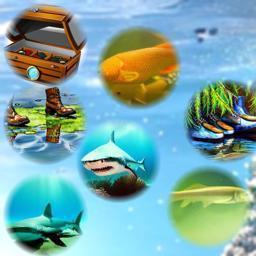not an animal: (5, 87, 81, 141)
treasure: (4, 5, 86, 84)
